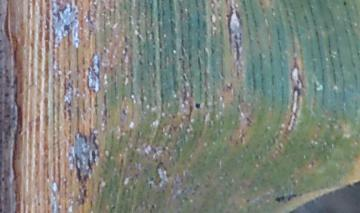tarspot: (234, 38, 241, 63), (273, 193, 285, 205), (292, 84, 302, 97), (62, 23, 71, 33), (287, 192, 297, 201), (2, 112, 10, 120), (194, 101, 201, 110), (232, 32, 239, 41), (3, 90, 9, 98), (177, 55, 183, 63), (123, 34, 128, 43), (342, 1, 348, 7), (149, 203, 155, 209), (1, 208, 4, 213)
